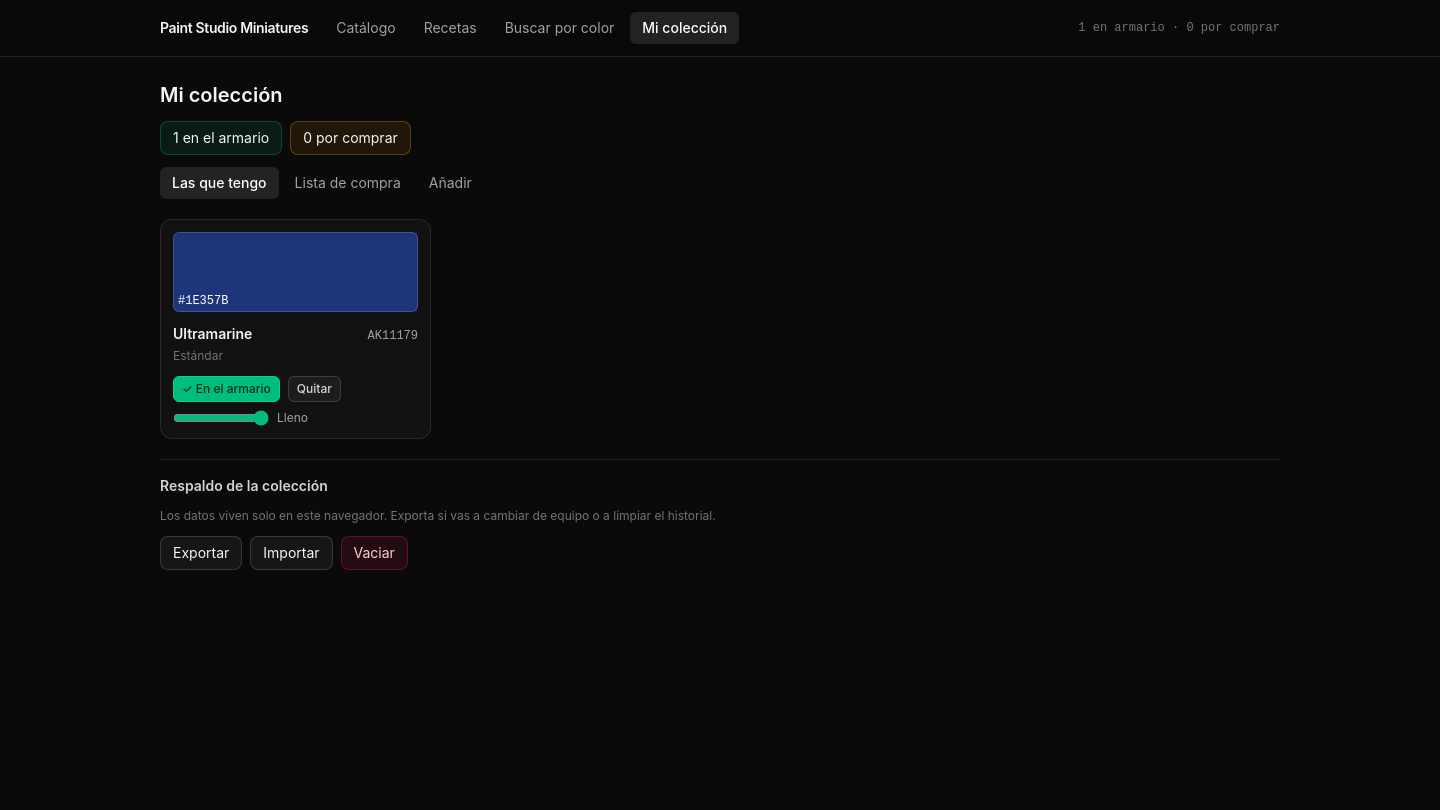
Test: registros borrados › cancelar la confirmación deja la pintura como estaba
Step 1. Click the button "Quitar" → (314, 389), box [288, 376, 341, 402]
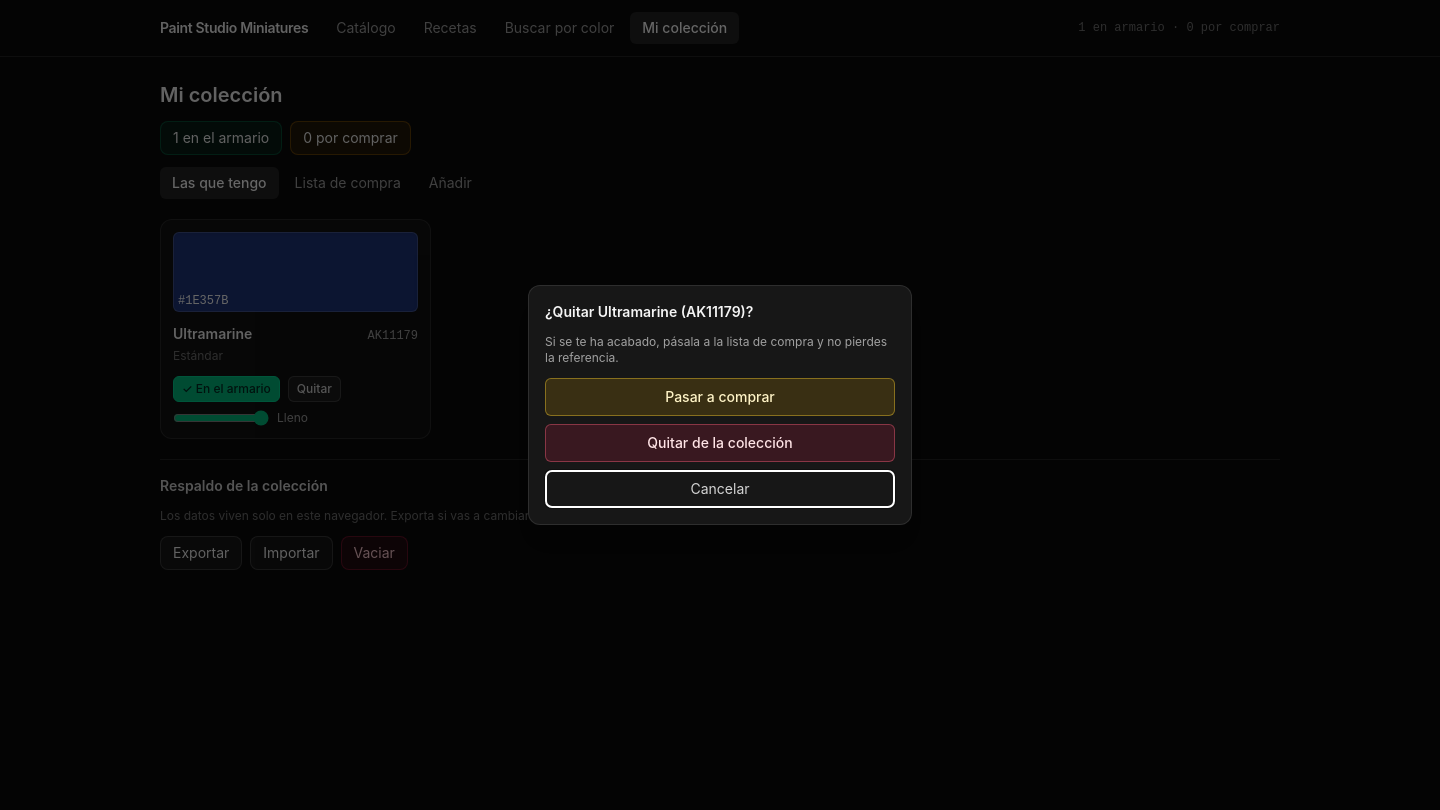
Step 2. Click the button "Cancelar" → (720, 489), box [545, 470, 895, 508]
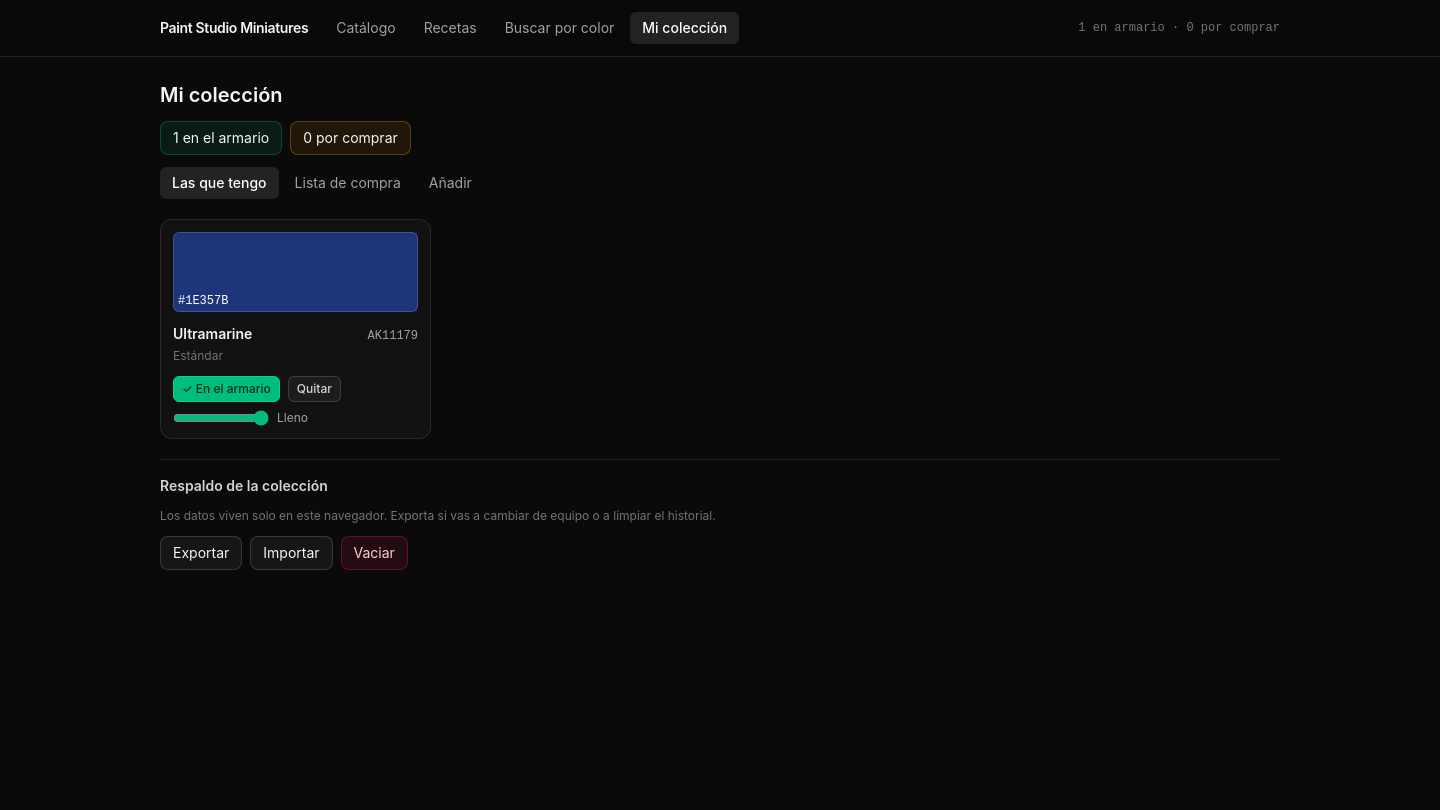
Expected: the text "1 en el armario" is shown, [160, 121, 282, 155]
Expected: the dialog is gone
